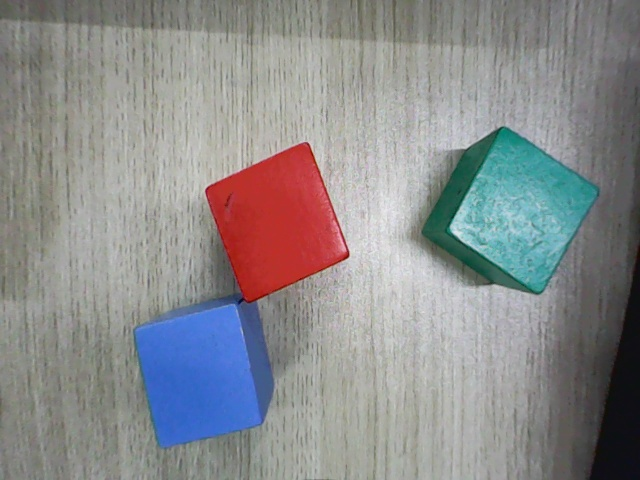upside of big cube: (446, 126, 601, 296), (204, 142, 352, 305), (132, 304, 263, 451)
